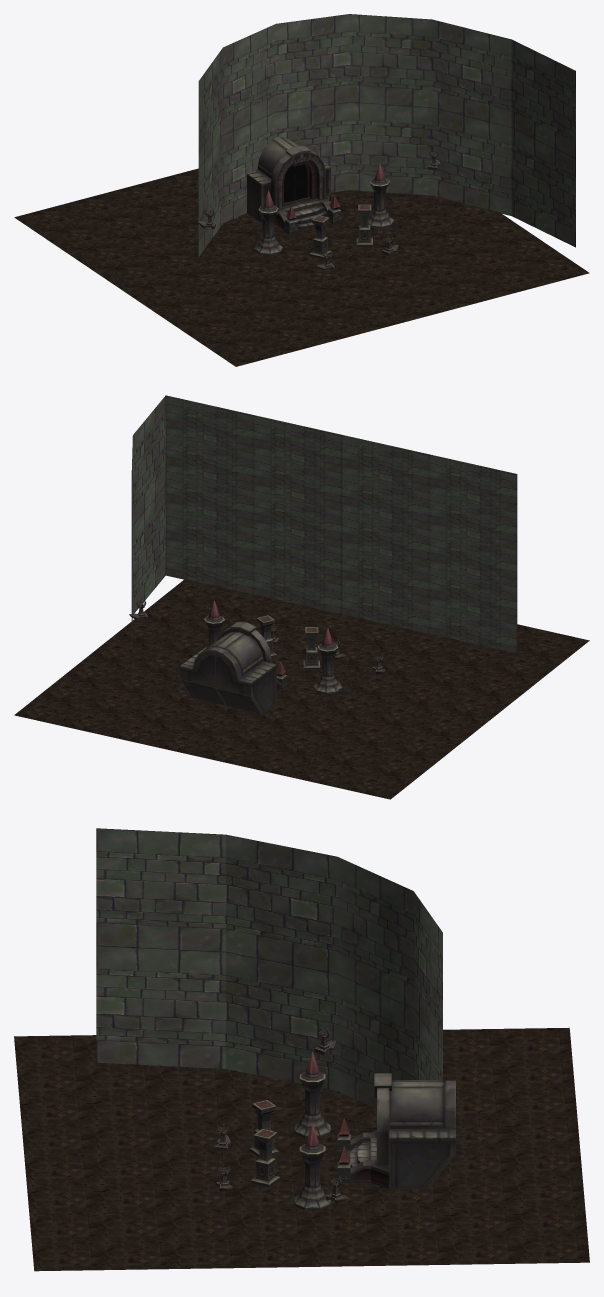
The model's file is bf_home_aveenafireborn.glb.
The picture shows the model from 3 angles, top to bottom: view 1: azimuth 30°, elevation 25°; view 2: azimuth 150°, elevation 25°; view 3: azimuth 270°, elevation 25°; orthographic projection. The views are drawn at different scales.
Parts seen in each view (by area): view 1: Floor, Wall_bake, Wall, mobile_entrance, mobile_tower_small (1), mobile_tower_small, mobile_pillar01_b (1), mobile_pillar01_b; view 2: Wall, Floor, mobile_entrance, mobile_tower_small (1), mobile_pillar01_b (1); view 3: Floor, Wall_bake, Wall, mobile_entrance, mobile_tower_small, mobile_tower_small (1), mobile_pillar01_b, mobile_pillar01_b (1).
Boxes of the visible parts, box(x1,y1,x2,y2) form: Floor: box(14, 168, 589, 366); Wall_bake: box(198, 14, 511, 256); Wall: box(511, 39, 575, 247); mobile_entrance: box(247, 137, 341, 234); mobile_tower_small (1): box(254, 190, 282, 255); mobile_tower_small: box(368, 163, 394, 228); mobile_pillar01_b (1): box(309, 215, 331, 258); mobile_pillar01_b: box(356, 204, 372, 246); Wall: box(133, 395, 517, 653); Floor: box(14, 579, 589, 799); mobile_entrance: box(180, 622, 287, 714); mobile_tower_small (1): box(313, 628, 342, 694); mobile_pillar01_b (1): box(303, 627, 320, 669); Floor: box(14, 1027, 589, 1271); Wall_bake: box(226, 834, 442, 1108); Wall: box(96, 828, 225, 1068); mobile_entrance: box(337, 1073, 455, 1189); mobile_tower_small: box(294, 1123, 330, 1210); mobile_tower_small (1): box(294, 1051, 330, 1137); mobile_pillar01_b: box(251, 1129, 280, 1187); mobile_pillar01_b (1): box(249, 1100, 278, 1156).
Size of the model in its own units: 32.42 by 17.75 by 31.07.
Materials: 3 (3 with a texture image).
